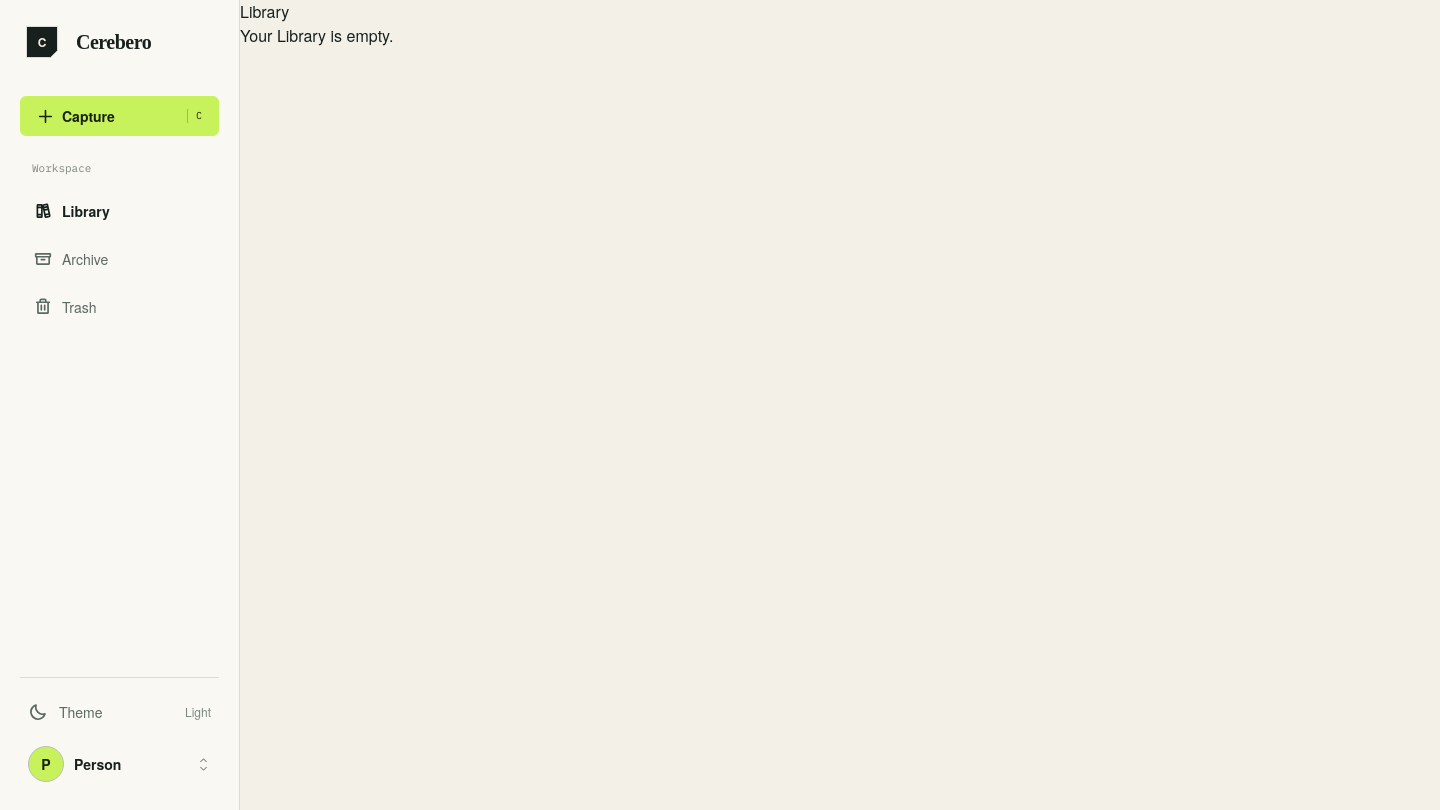
Test case: authenticated application shell › keeps the profile menu above page content and opens shortcut help
Click the button with aria-label "Open profile menu".
click(120, 764)  # box [20,738,219,790]
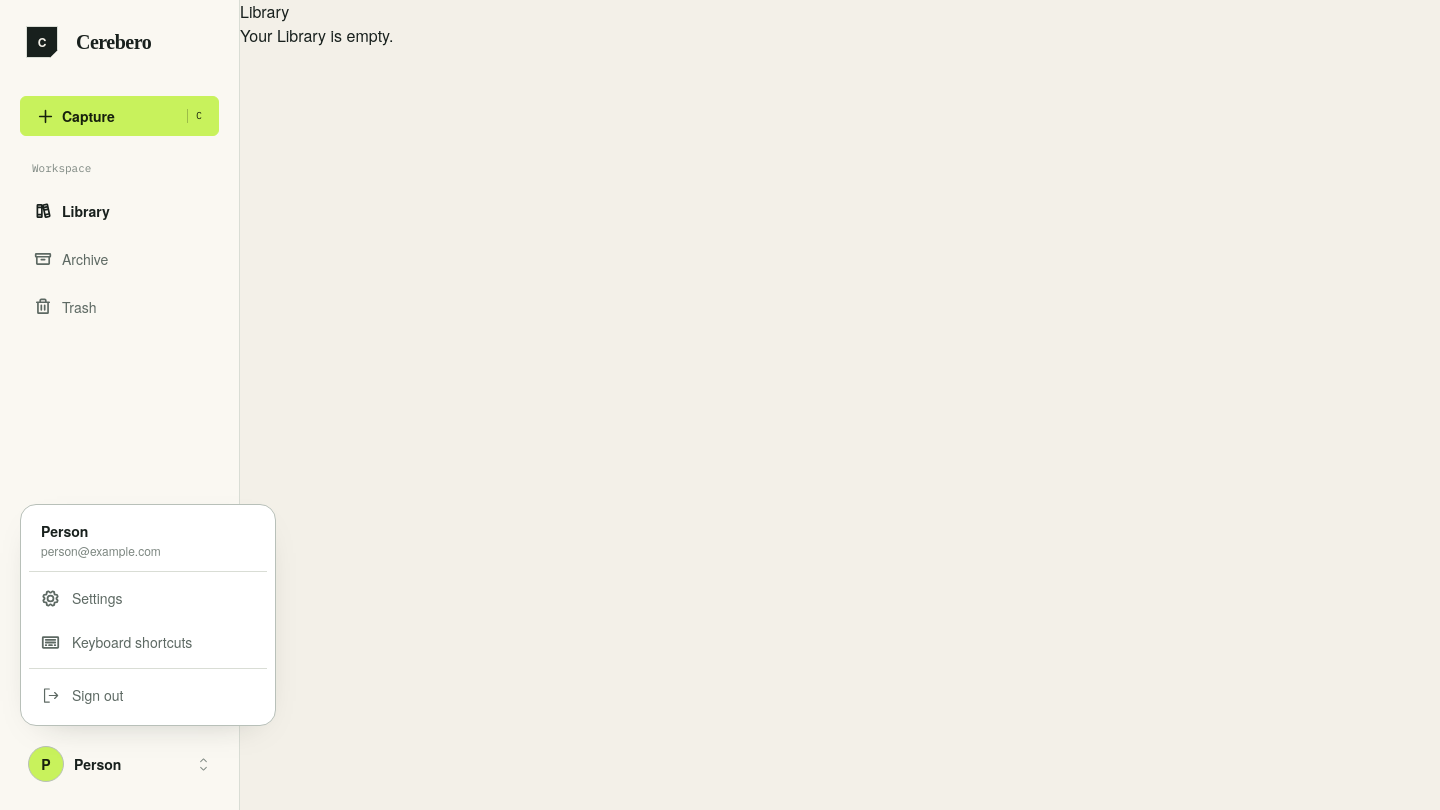
Click the menu item "Keyboard shortcuts".
click(148, 642)  # box [29,620,267,664]
(page scrolled)
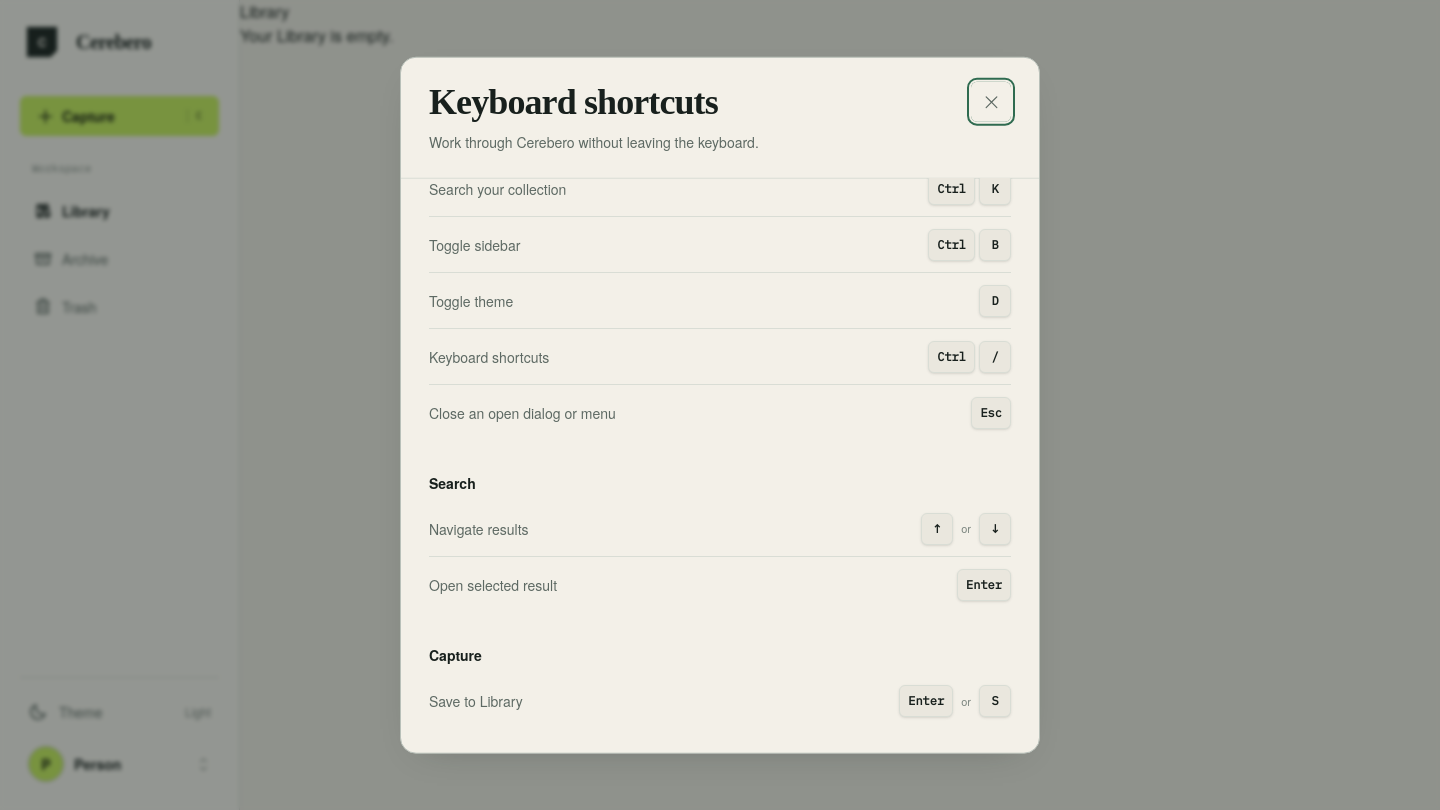
Now the text "Toggle theme" is shown, box [429,290,513,310]
Now the text "Navigate results" is shown, box [429,518,529,538]
Now the text "Save to Library" is shown, box [429,691,523,711]
